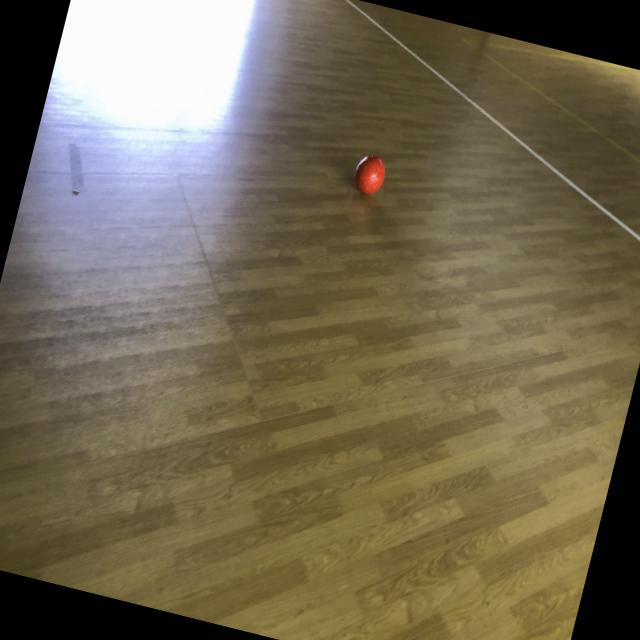red_ball: (350, 150, 390, 198)
